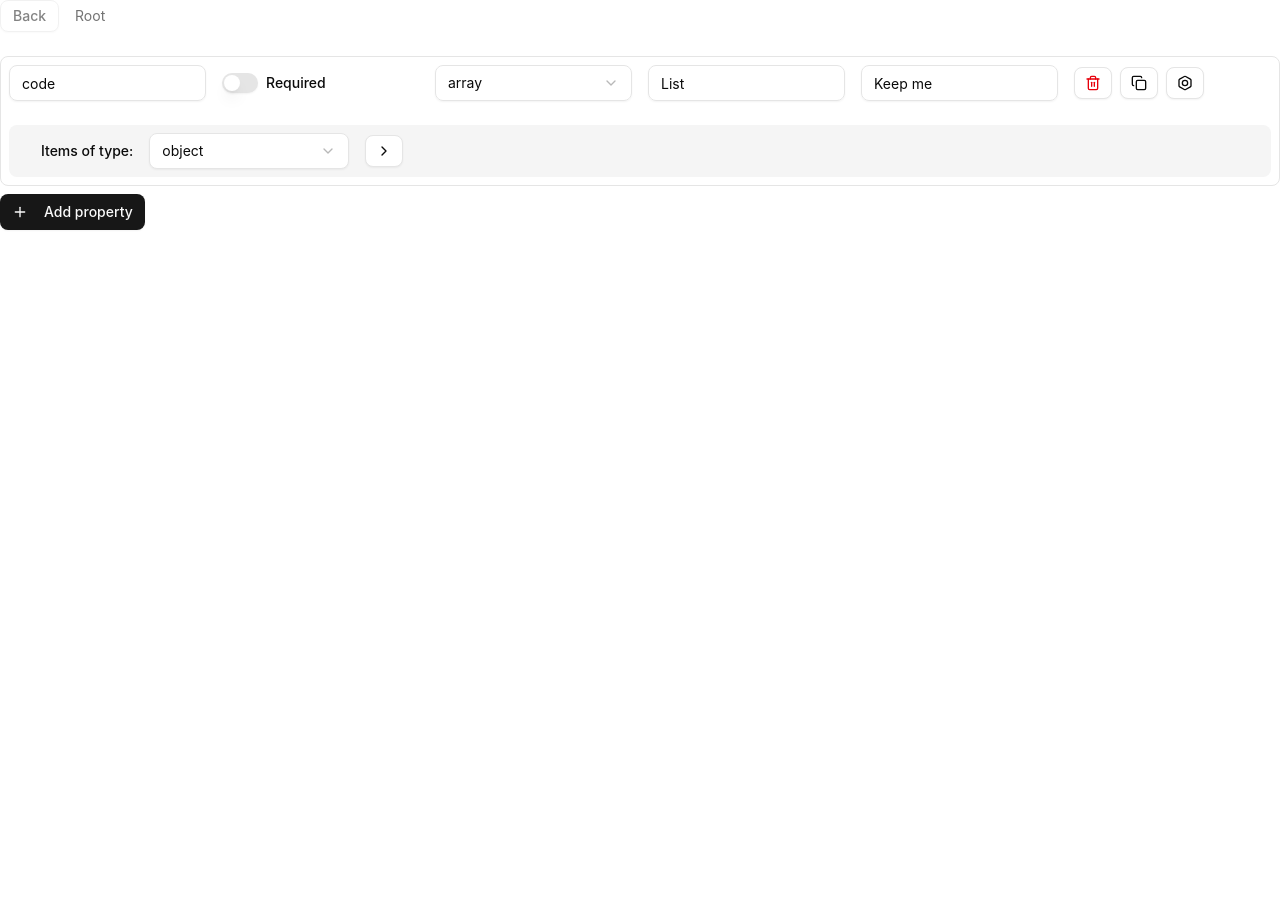
Scenario: Edit dialog lifecycle › preserves unedited fields when saving a titled array
Step 1. Click the button named "Edit constraints" → [1185, 83], box [1166,67,1204,99]
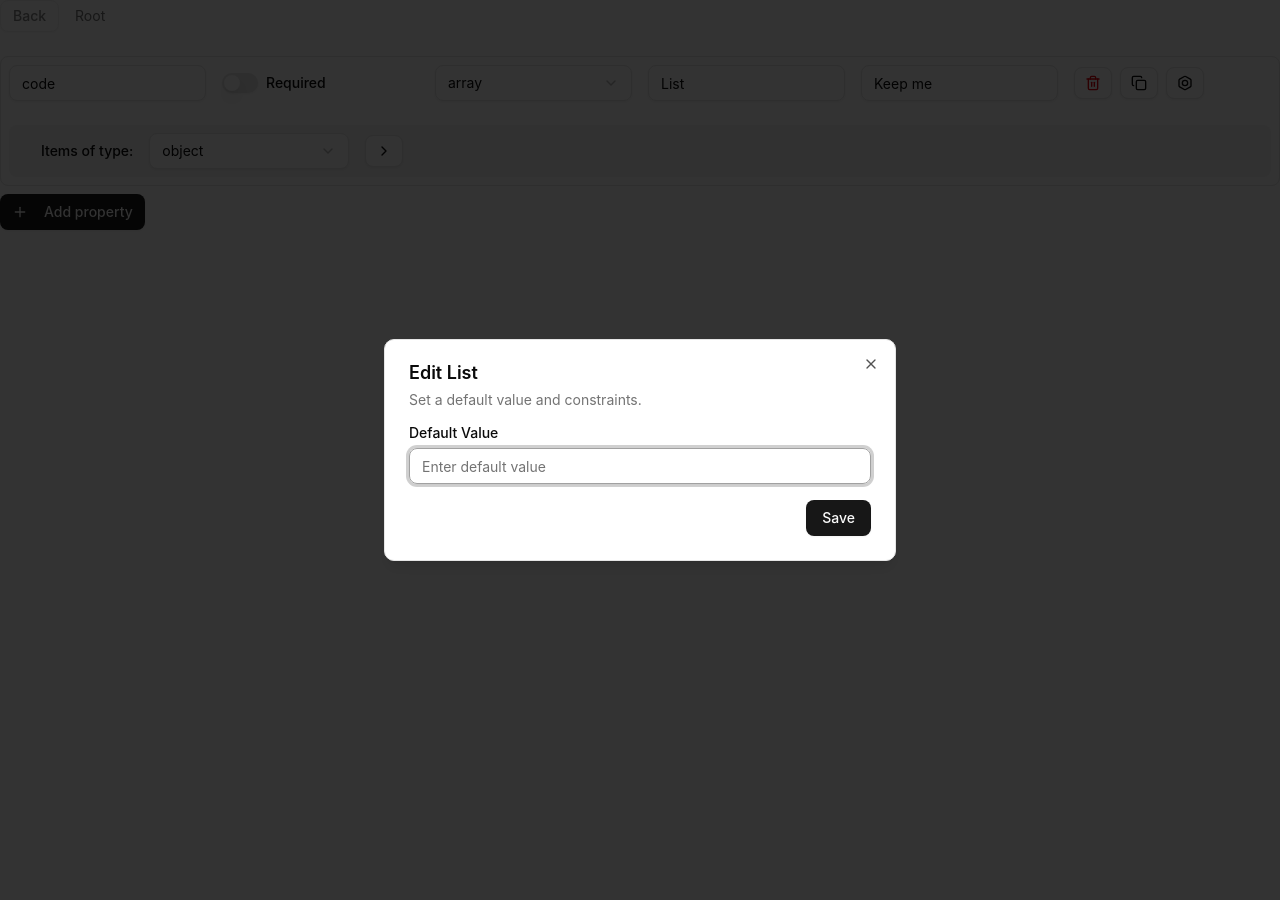
Step 2. Type "[ []" into the field labelled "Default Value" → [640, 466], box [409,448,871,484]
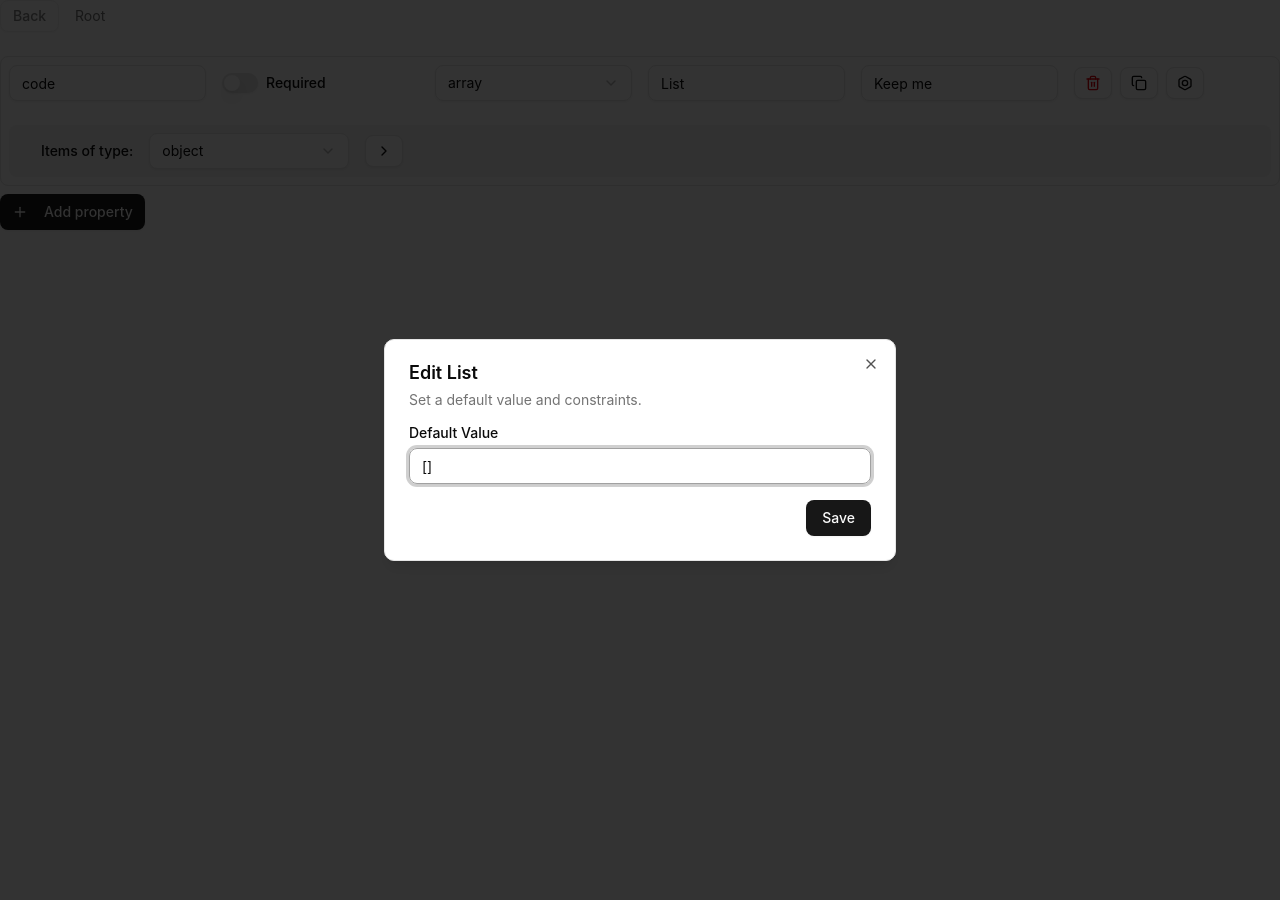
Step 3. Click the button "Save" → [839, 518], box [806,500,871,536]
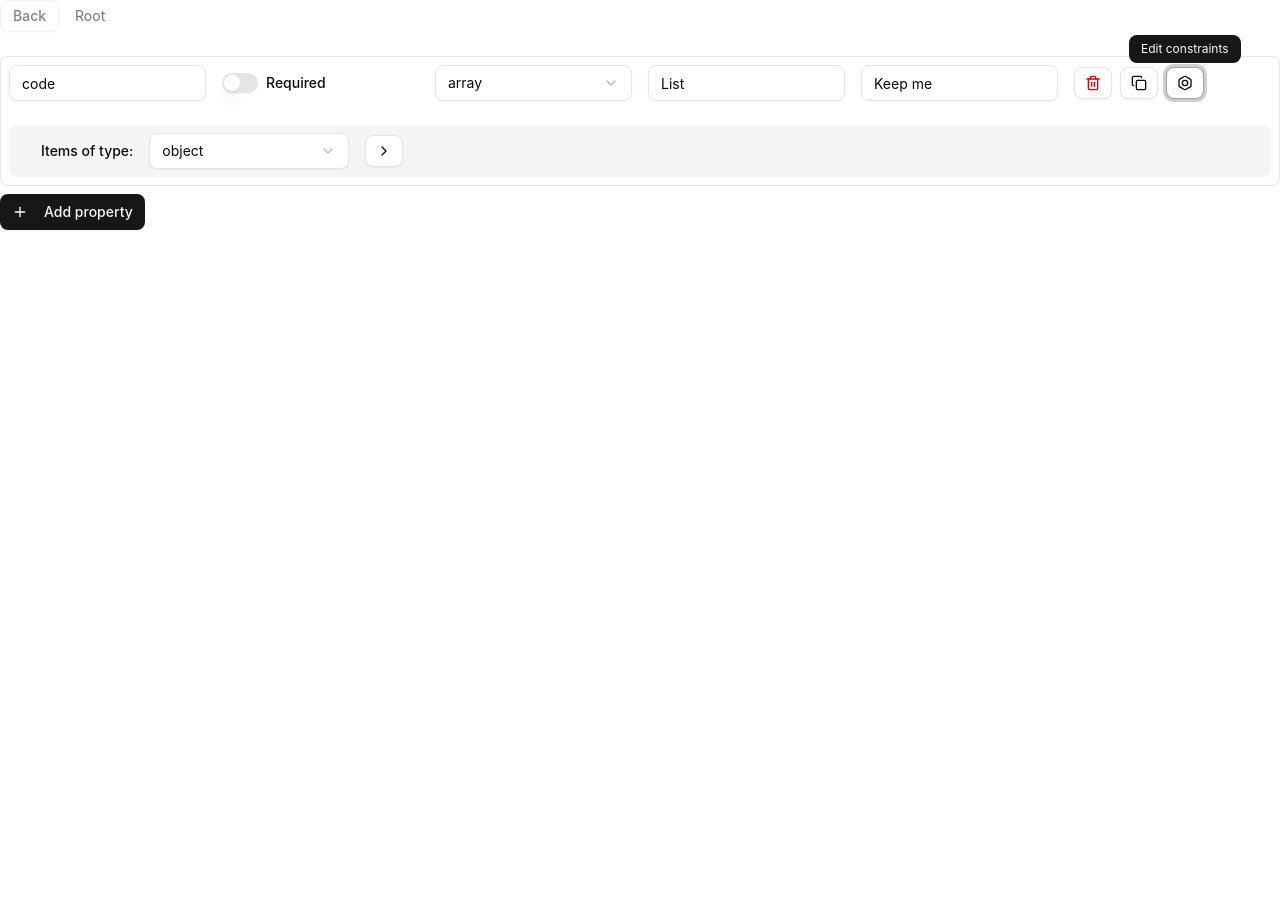
expect the dialog is gone: met
